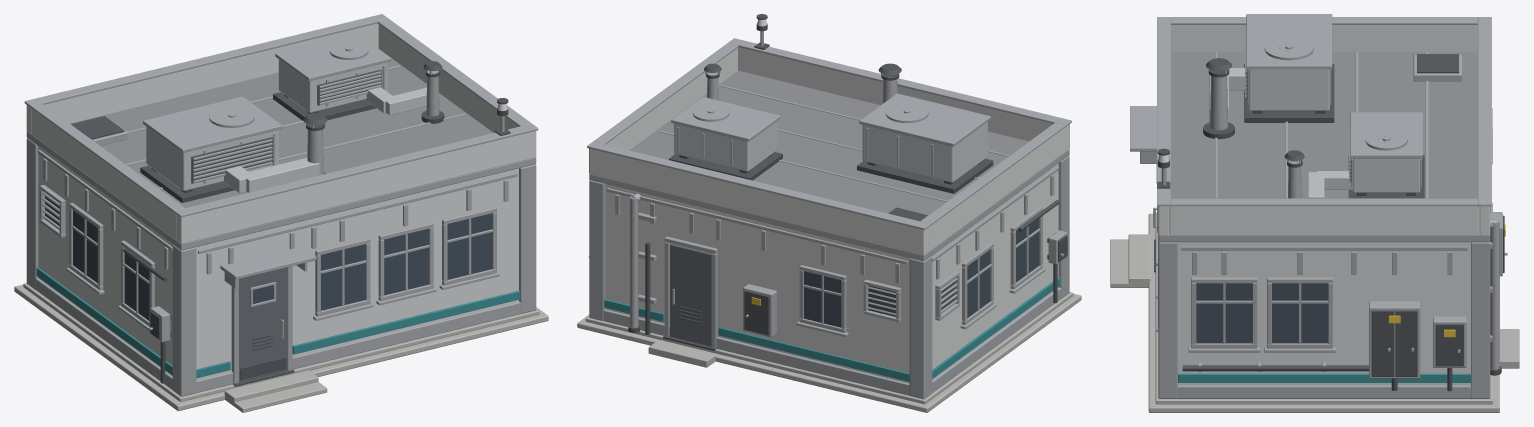
File: utility-building.glb
3 renders of one model, left to right at view 1: azimuth 30°, elevation 25°; view 2: azimuth 150°, elevation 25°; view 3: azimuth 270°, elevation 25°, orthographic. The views are drawn at different scales.
Parts seen in each view (by area): view 1: BUILDING_SHELL, ROOF_DECK, ROOF_PARAPET_FRONT, ROOF_PARAPET_BACK, WALL_BASE_BAND, FOUNDATION, ACCENT_STRIP, MAIN_DOOR, ROOF_PARAPET_LEFT, CORNER_PILASTER_FL, HVAC_01_CAP, ROOF (+46 smaller); view 2: BUILDING_SHELL, ROOF_DECK, ROOF_PARAPET_BACK, ROOF_PARAPET_FRONT, WALL_BASE_BAND, HVAC_01, FOUNDATION, REAR_SERVICE_DOOR_LEAF, ROOF_PARAPET_LEFT, ACCENT_STRIP, CORNER_PILASTER_RL, ROOF (+35 smaller); view 3: ROOF_DECK, BUILDING_SHELL, ROOF_PARAPET_RIGHT, ROOF_PARAPET_LEFT, FOUNDATION, WALL_BASE_BAND, HVAC_01_CAP, ELECTRICAL_PANEL_01, HVAC_01, WINDOW_RIGHT_01_GLASS, WINDOW_RIGHT_02_GLASS, CORNER_PILASTER_FR (+33 smaller).
Boxes of the visible parts, <box> form: BUILDING_SHELL: <box>38,146,518,379</box>; ROOF_DECK: <box>70,48,493,207</box>; ROOF_PARAPET_FRONT: <box>176,131,536,243</box>; ROOF_PARAPET_BACK: <box>26,23,378,134</box>; WALL_BASE_BAND: <box>35,278,520,392</box>; FOUNDATION: <box>14,284,548,411</box>; ACCENT_STRIP: <box>36,267,520,378</box>; MAIN_DOOR: <box>239,267,287,381</box>; ROOF_PARAPET_LEFT: <box>31,109,176,239</box>; CORNER_PILASTER_FL: <box>172,245,196,396</box>; HVAC_01_CAP: <box>143,96,282,152</box>; ROOF: <box>26,131,536,250</box>; BUILDING_SHELL: <box>605,163,1058,383</box>; ROOF_DECK: <box>629,70,1028,215</box>; ROOF_PARAPET_BACK: <box>589,148,928,255</box>; ROOF_PARAPET_FRONT: <box>738,47,1069,151</box>; WALL_BASE_BAND: <box>603,287,1061,395</box>; HVAC_01: <box>862,122,987,182</box>; FOUNDATION: <box>577,293,1081,412</box>; REAR_SERVICE_DOOR_LEAF: <box>670,244,711,346</box>; ROOF_PARAPET_LEFT: <box>928,128,1064,251</box>; ACCENT_STRIP: <box>604,277,1060,381</box>; CORNER_PILASTER_RL: <box>909,256,932,399</box>; ROOF: <box>589,149,1069,261</box>; ROOF_DECK: <box>1171,52,1477,198</box>; BUILDING_SHELL: <box>1178,242,1470,385</box>; ROOF_PARAPET_RIGHT: <box>1169,206,1479,235</box>; ROOF_PARAPET_LEFT: <box>1171,25,1477,51</box>; FOUNDATION: <box>1148,213,1499,412</box>; WALL_BASE_BAND: <box>1177,385,1471,398</box>; HVAC_01_CAP: <box>1246,14,1332,69</box>; ELECTRICAL_PANEL_01: <box>1369,301,1420,378</box>; HVAC_01: <box>1248,69,1329,110</box>; WINDOW_RIGHT_01_GLASS: <box>1196,283,1252,343</box>; WINDOW_RIGHT_02_GLASS: <box>1272,283,1328,343</box>; CORNER_PILASTER_FR: <box>1158,241,1177,398</box>.
Size of the model in its own units: 8.8 by 5.02 by 7.57.
